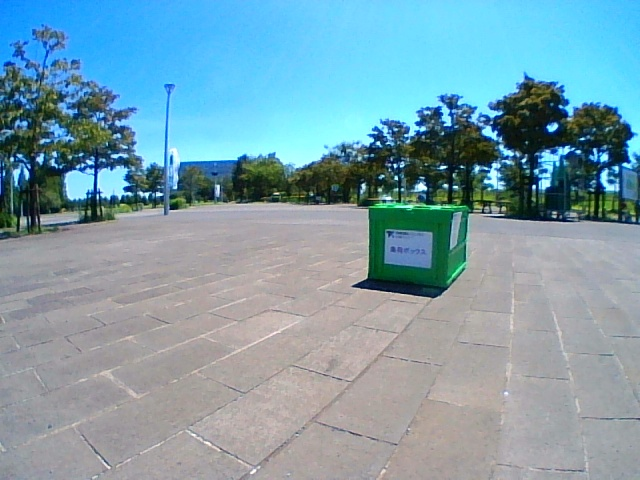green_box: (370, 204, 466, 289)
tag: (452, 212, 457, 248)
